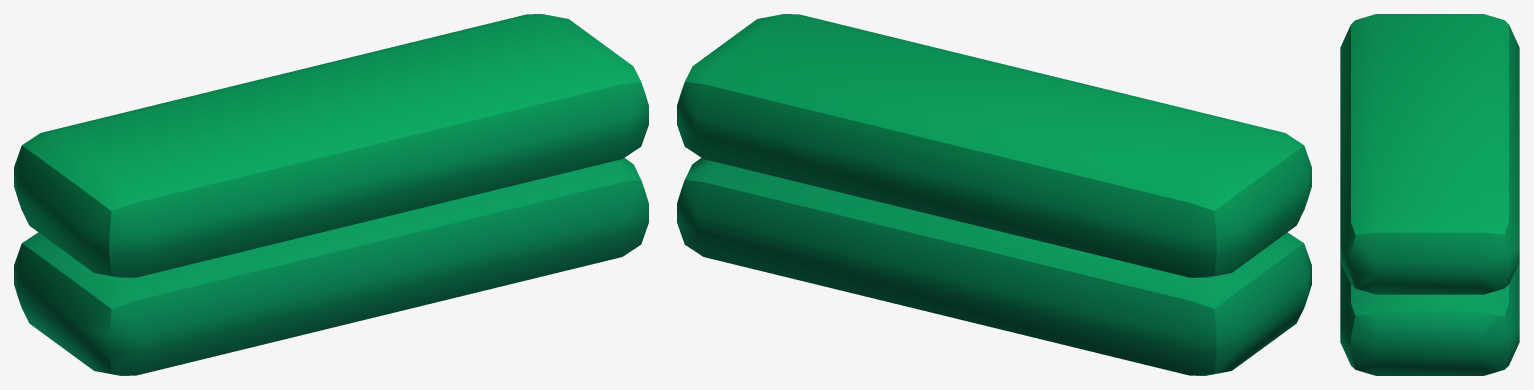
Rendered from barrier_3x1x1_green.glb.
The picture shows the model from 3 angles, left to right: view 1: azimuth 30°, elevation 25°; view 2: azimuth 150°, elevation 25°; view 3: azimuth 270°, elevation 25°; orthographic projection. The views are drawn at different scales.
Visible parts, largest first — view 1: barrier_3x1x1_green; view 2: barrier_3x1x1_green; view 3: barrier_3x1x1_green.
Part boxes in pixels (left/top/right/bottom): barrier_3x1x1_green: left=14, top=14, right=648, bottom=375; barrier_3x1x1_green: left=677, top=14, right=1311, bottom=375; barrier_3x1x1_green: left=1340, top=14, right=1519, bottom=375.
Size of the model in its own units: 3 by 1 by 1.
Materials: 1 (1 with a texture image).
